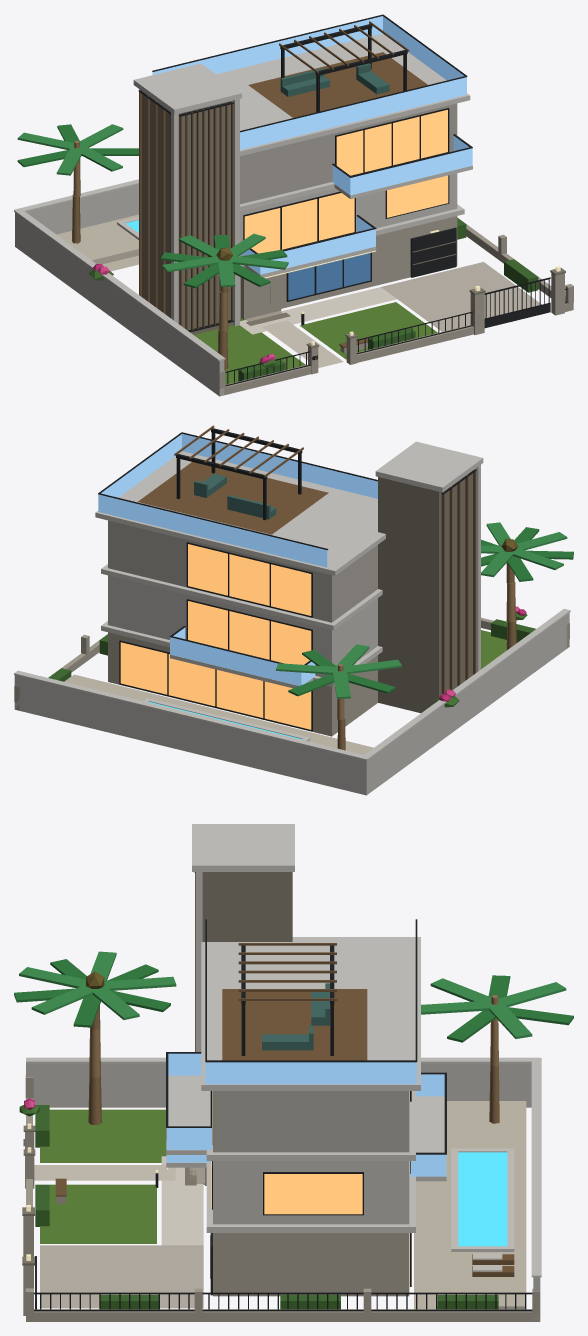
The model's file is villa-c4.glb.
3 views of the same model, one above another, from view 1: azimuth 30°, elevation 25°; view 2: azimuth 150°, elevation 25°; view 3: azimuth 270°, elevation 25° (orthographic). The views are drawn at different scales.
Bounding box in the file's own units: 23.46 × 13.85 × 23.96.
